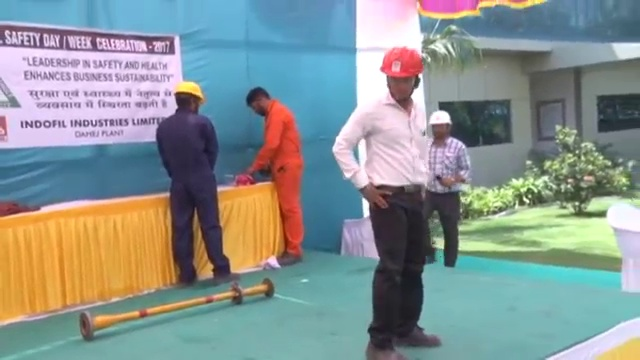helmet: (378, 44, 427, 78), (172, 80, 207, 106), (427, 107, 455, 127)
helmet_off: (241, 85, 274, 119)
helmet_on: (376, 42, 429, 108), (171, 77, 208, 115), (426, 107, 456, 144)
person: (332, 42, 442, 360), (154, 77, 241, 285), (237, 86, 305, 264), (424, 106, 471, 270)
